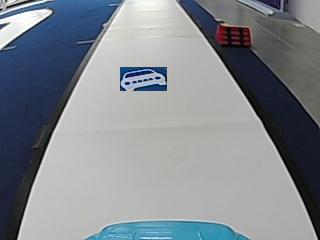bomb: (213, 24, 252, 45)
